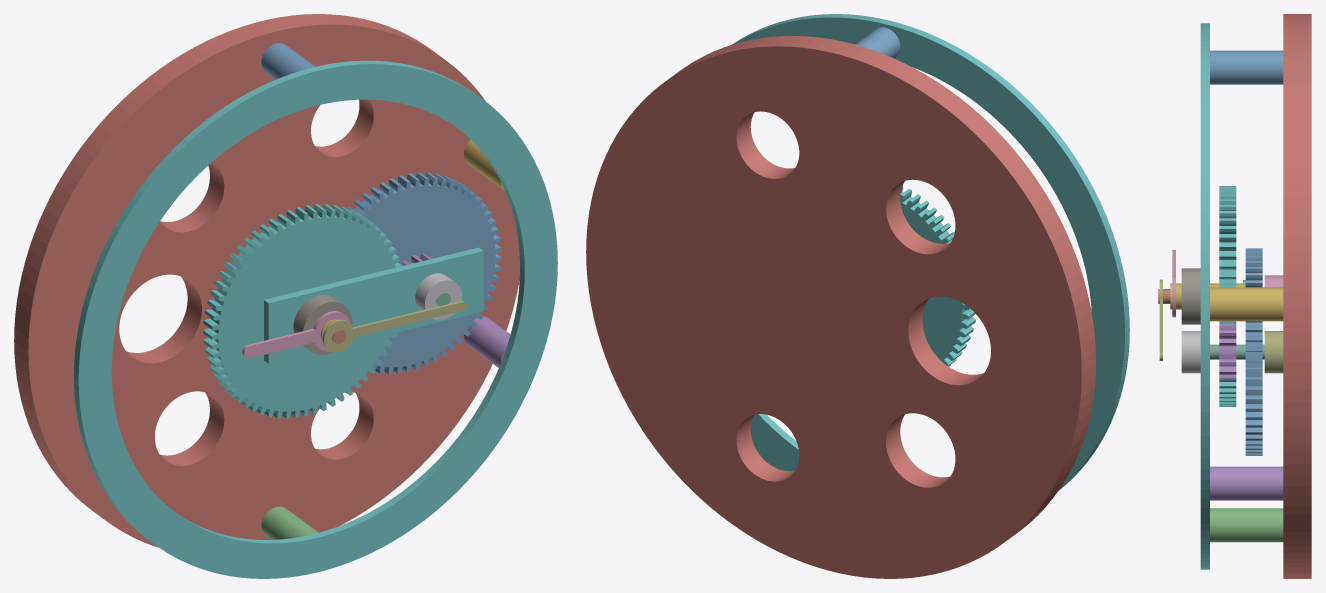
The model's file is automech-watch.glb.
3 renders of one model, left to right at view 1: azimuth 30°, elevation 25°; view 2: azimuth 150°, elevation 25°; view 3: azimuth 270°, elevation 25°, orthographic.
Visible parts, largest first — view 1: baseplate_visual, upper_bridge_visual, hour_wheel_65t_visual, intermediate_wheel_61t_visual, minute_hand_visual, hour_hand_visual, bridge_post_4_visual, center_upper_bearing_visual, bridge_post_2_visual, intermediate_upper_bearing_visual, bridge_post_1_visual, bridge_post_3_visual; view 2: baseplate_visual, upper_bridge_visual, hour_wheel_65t_visual, bridge_post_1_visual; view 3: baseplate_visual, upper_bridge_visual, intermediate_wheel_61t_visual, bridge_post_1_visual, bridge_post_2_visual, bridge_post_3_visual, bridge_post_4_visual, hour_wheel_65t_visual, center_upper_bearing_visual, intermediate_pinion_15t_visual, intermediate_upper_bearing_visual, intermediate_lower_bearing_visual (+5 smaller).
Boxes of the visible parts, bbox=[...] form: baseplate_visual: bbox=[14, 14, 519, 547]; upper_bridge_visual: bbox=[74, 60, 557, 578]; hour_wheel_65t_visual: bbox=[203, 204, 401, 418]; intermediate_wheel_61t_visual: bbox=[346, 172, 501, 374]; minute_hand_visual: bbox=[322, 301, 466, 352]; hour_hand_visual: bbox=[242, 311, 350, 358]; bridge_post_4_visual: bbox=[464, 316, 510, 367]; center_upper_bearing_visual: bbox=[293, 295, 352, 354]; bridge_post_2_visual: bbox=[261, 506, 318, 539]; intermediate_upper_bearing_visual: bbox=[415, 273, 461, 320]; bridge_post_1_visual: bbox=[261, 43, 315, 79]; bridge_post_3_visual: bbox=[464, 139, 504, 190]; baseplate_visual: bbox=[586, 36, 1095, 578]; upper_bridge_visual: bbox=[732, 14, 1129, 490]; hour_wheel_65t_visual: bbox=[900, 185, 975, 366]; bridge_post_1_visual: bbox=[855, 27, 900, 58]; baseplate_visual: bbox=[1283, 14, 1311, 578]; upper_bridge_visual: bbox=[1200, 23, 1209, 569]; intermediate_wheel_61t_visual: bbox=[1245, 248, 1262, 455]; bridge_post_1_visual: bbox=[1210, 50, 1283, 84]; bridge_post_2_visual: bbox=[1210, 508, 1283, 542]; bridge_post_3_visual: bbox=[1210, 287, 1283, 321]; bridge_post_4_visual: bbox=[1210, 466, 1283, 500]; hour_wheel_65t_visual: bbox=[1219, 186, 1236, 406]; center_upper_bearing_visual: bbox=[1181, 268, 1200, 324]; intermediate_pinion_15t_visual: bbox=[1219, 324, 1236, 380]; intermediate_upper_bearing_visual: bbox=[1181, 331, 1200, 373]; intermediate_lower_bearing_visual: bbox=[1264, 331, 1283, 373].
Bounding box in the file's own units: 0.06 × 0.06 × 0.0163.
